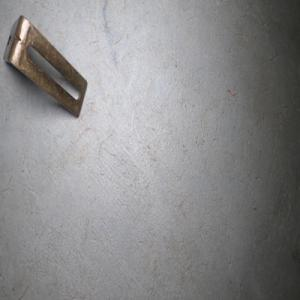MetalPart: (1, 14, 89, 119)
